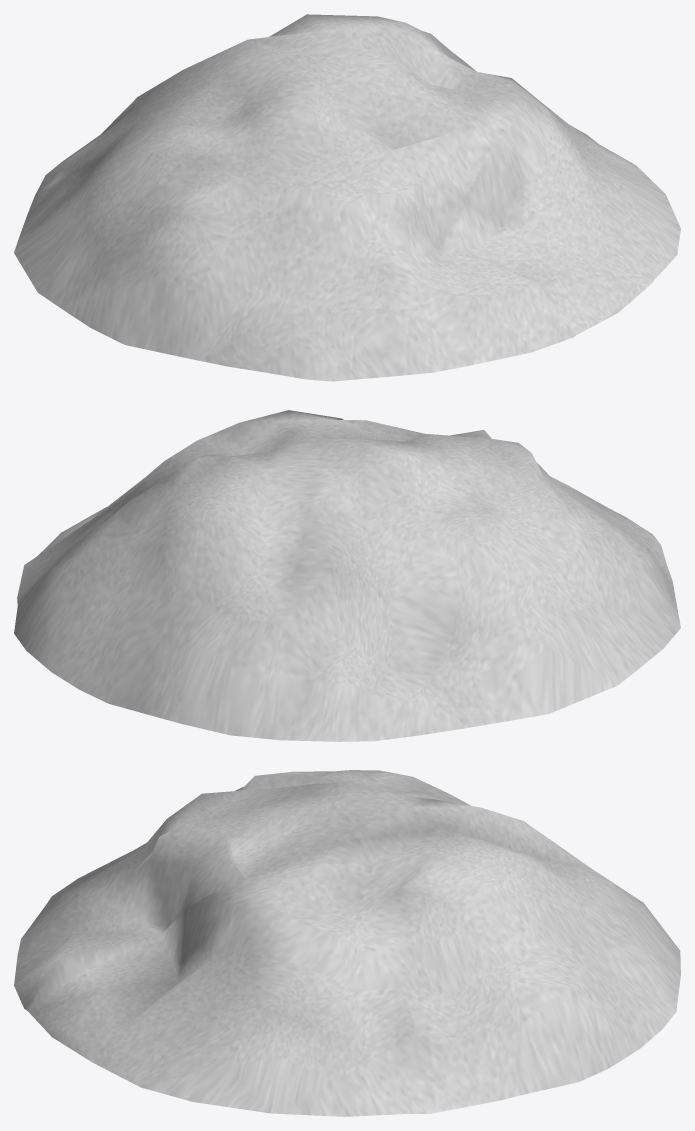
File: sugar.glb
3 views of the same model, one above another, from view 1: azimuth 30°, elevation 25°; view 2: azimuth 150°, elevation 25°; view 3: azimuth 270°, elevation 25° (orthographic).
Parts seen in each view (by area): view 1: Sugarbowl; view 2: Sugarbowl; view 3: Sugarbowl.
Part boxes in pixels (x1,y1,x2,y2): Sugarbowl: (14,14,680,381); Sugarbowl: (14,410,680,741); Sugarbowl: (14,770,680,1116).
Bounding box in the file's own units: 1.8 × 0.4968 × 1.8.
Materials: 1 (1 with a texture image).
